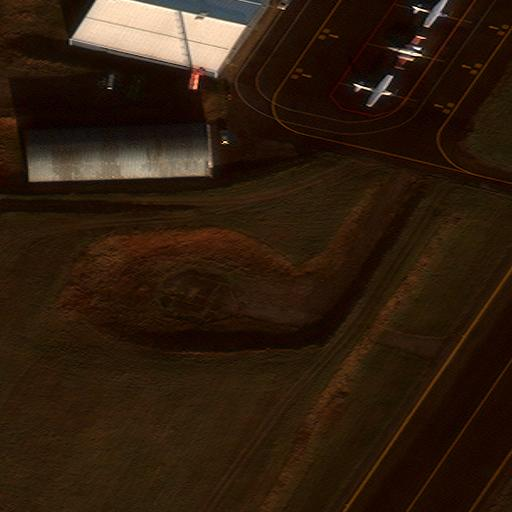Small Civil Transport: (381, 35, 424, 70), (353, 75, 393, 106), (409, 0, 449, 29)
